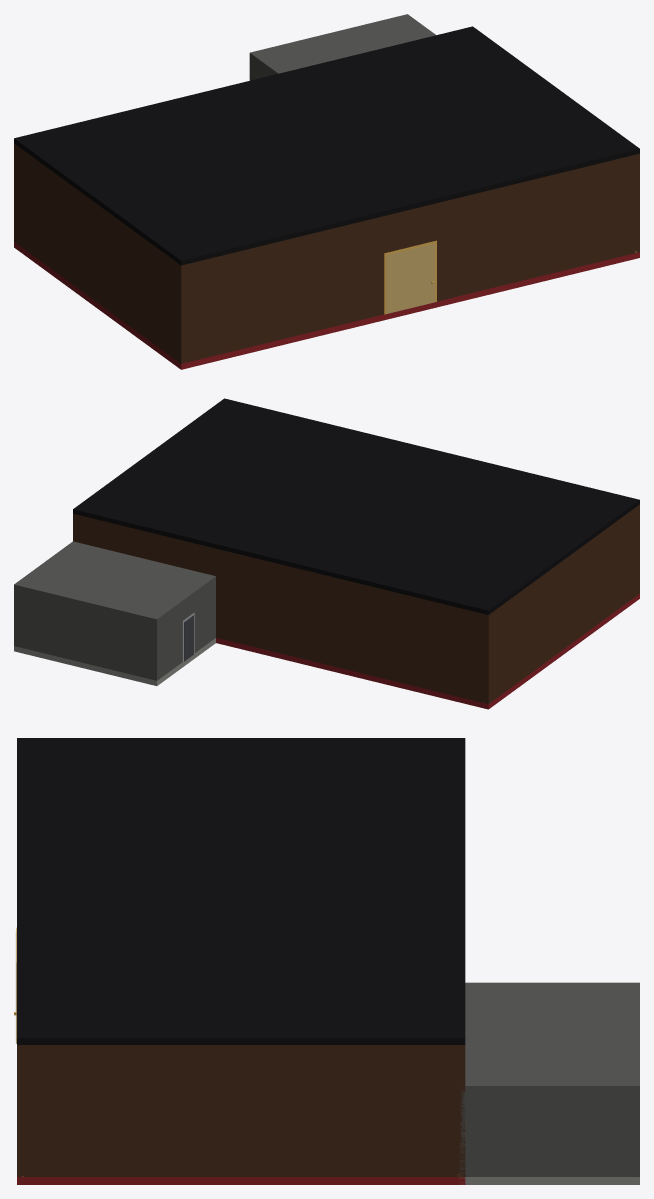
The model's file is casino.glb.
The picture shows the model from 3 angles, top to bottom: view 1: azimuth 30°, elevation 25°; view 2: azimuth 150°, elevation 25°; view 3: azimuth 270°, elevation 25°; orthographic projection. The views are drawn at different scales.
Visible parts, largest first — view 1: casino; view 2: casino; view 3: casino.
Part boxes in pixels (<box>): casino: <box>14,14,639,369</box>; casino: <box>14,398,639,709</box>; casino: <box>14,738,639,1184</box>.
Size of what is drawn, in the model's own units: 24.4 by 5.55 by 21.5.
